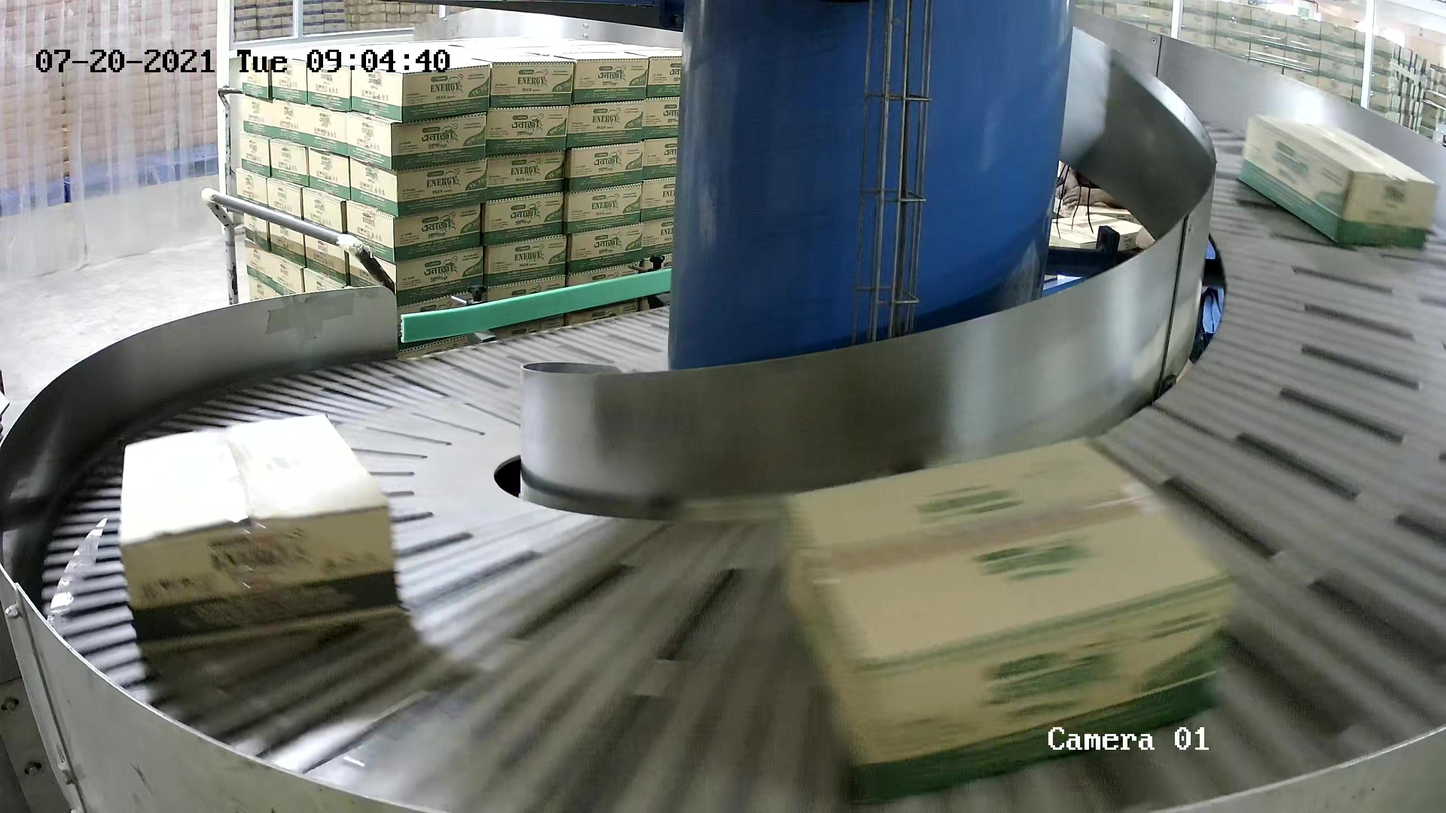Box: (774, 433, 1240, 809), (117, 411, 403, 657), (1235, 112, 1438, 248)
